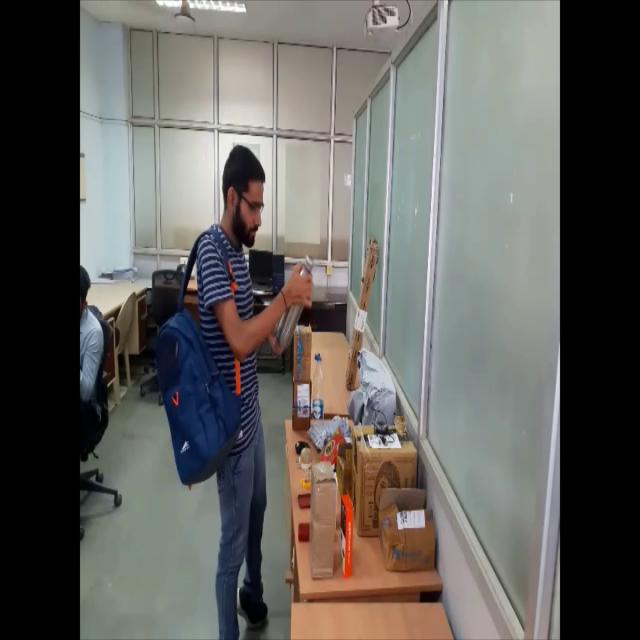normal: (152, 136, 315, 640)
